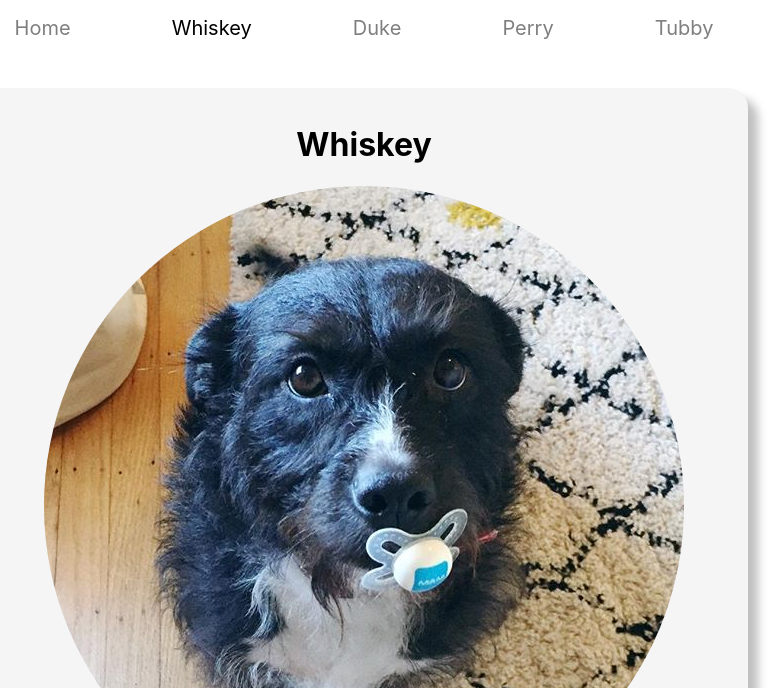
Test: check that the navbar links are working › should show the DogDetail for Duke when Duke's NavLink is clicked
What coordinates should you click on to do the following:
click the link "Duke"
I would click on:
 (377, 28)
Its box is [353, 16, 401, 40].
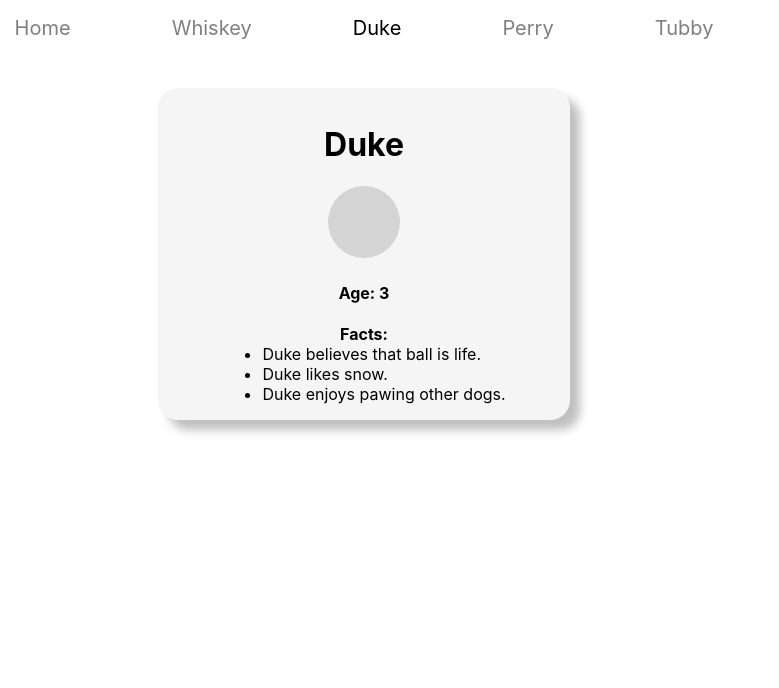
Check: the list item "Duke believes that ball is life." is shown, box [262, 344, 506, 364]
